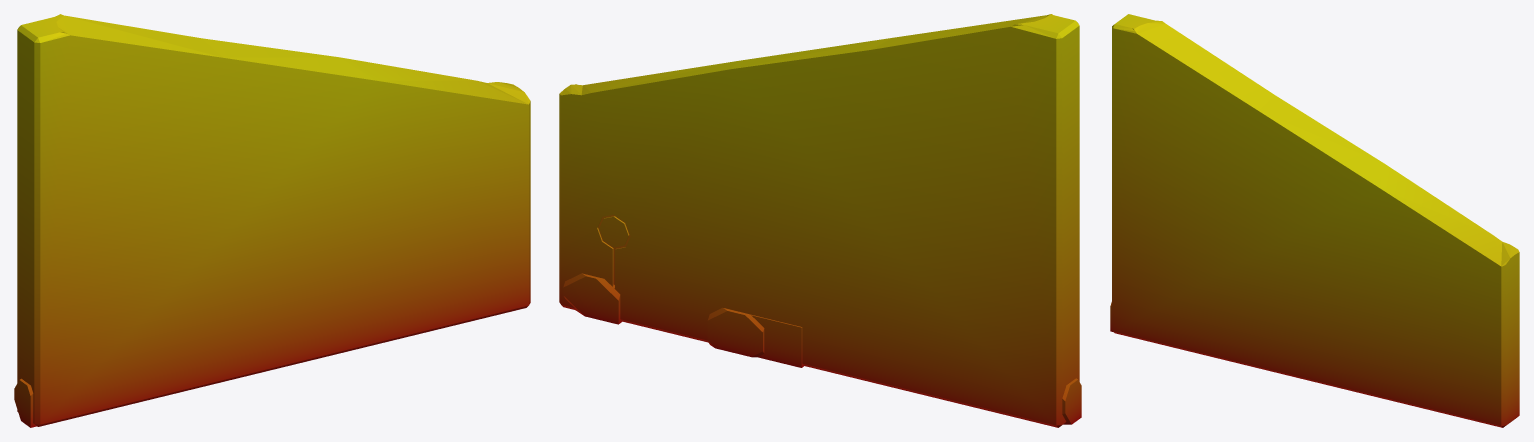
Rendered from mural_panel_broken.glb.
3 renders of one model, left to right at view 1: azimuth 30°, elevation 25°; view 2: azimuth 150°, elevation 25°; view 3: azimuth 330°, elevation 25°, orthographic. The views are drawn at different scales.
Parts seen in each view (by area): view 1: mural_panel_broken; view 2: mural_panel_broken; view 3: mural_panel_broken.
Boxes of the visible parts, box(x1,y1,x2,y2) form: mural_panel_broken: box(14, 14, 530, 427); mural_panel_broken: box(559, 14, 1081, 427); mural_panel_broken: box(1110, 14, 1519, 427).
Size of what is drawn, in the model's own units: 4.02 by 3 by 0.3283.
